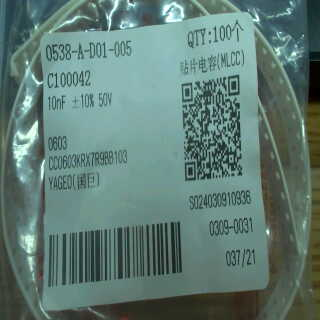10nF: (46, 93, 70, 114)
